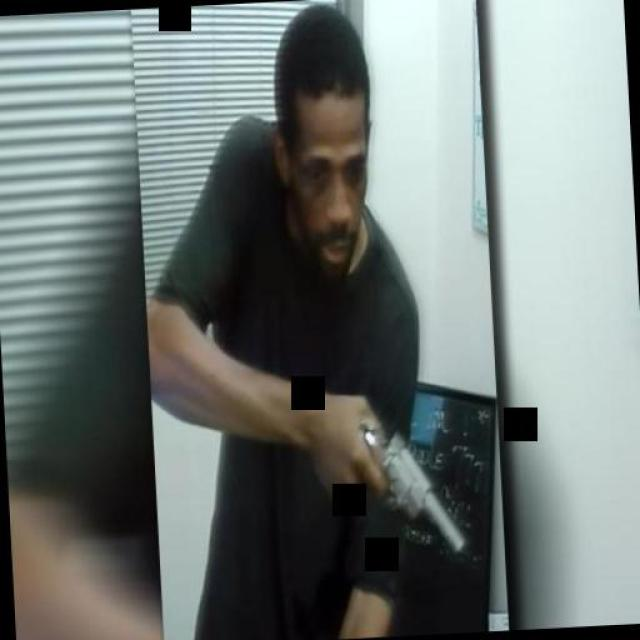gun: (349, 405, 465, 563)
